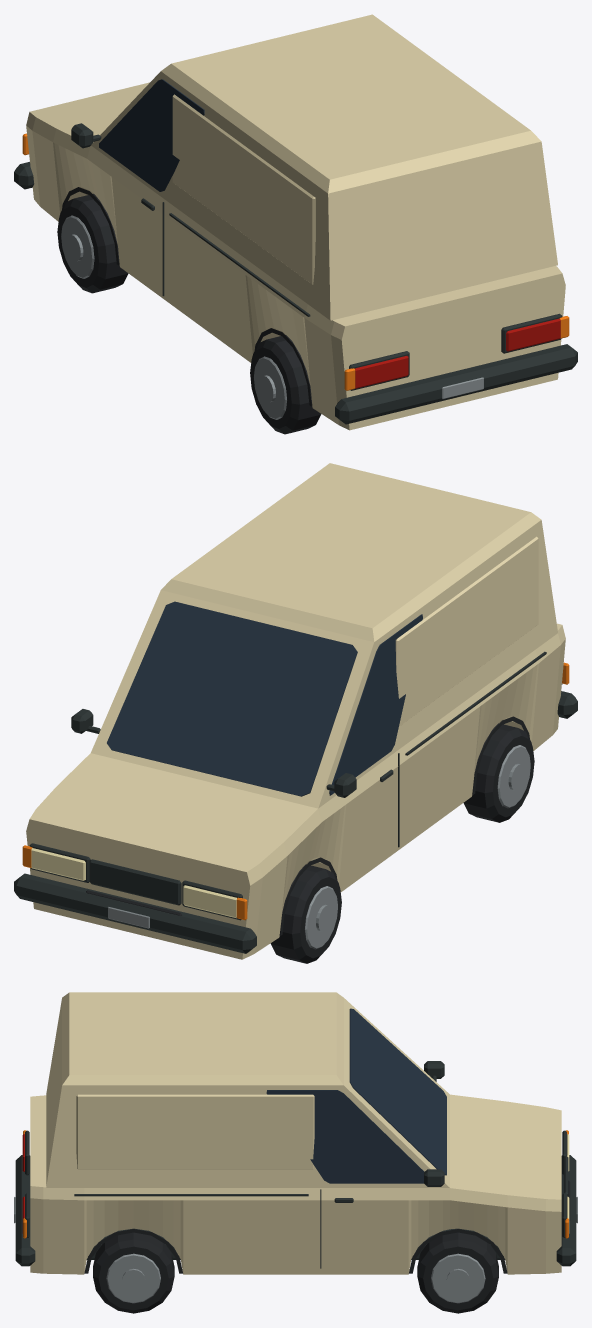
File: 17_CompactCargoVan.fbx
3 views of the same model, one above another, from view 1: azimuth 30°, elevation 25°; view 2: azimuth 150°, elevation 25°; view 3: azimuth 270°, elevation 25° (orthographic). The views are drawn at different scales.
Parts seen in each view (by area): view 1: Raked cabin with chamfered roof.016, Continuous body with open wheel arches.017, Recessed solid cargo panel.002, Moulded bumper.033, Side glass -1 pane 1.012, WheelFL_ShapedSidewall.016, WheelRL_ShapedSidewall.016, WheelFL_Rim.016, WheelRL_Rim.016, Tail lamp.033, Tail lamp.032, Cargo door track.002 (+1 smaller); view 2: Continuous body with open wheel arches.017, Raked cabin with chamfered roof.016, Framed opaque windshield.016, Recessed solid cargo panel.002, Moulded bumper.032, Side glass -1 pane 1.012, WheelFL_ShapedSidewall.016, WheelRL_ShapedSidewall.016, Inset radiator grille.016, WheelRL_Rim.016, WheelFL_Rim.016, Headlamp.029 (+2 smaller); view 3: Continuous body with open wheel arches.017, Raked cabin with chamfered roof.016, Recessed solid cargo panel.003, Framed opaque windshield.016, Side glass 1 pane 1.012, WheelFR_ShapedSidewall.016, WheelRR_ShapedSidewall.016, WheelFR_Rim.016, WheelRR_Rim.016, Moulded bumper.033, Moulded bumper.032, Cargo door track.003 (+2 smaller).
Boxes of the visible parts, left/top/right/bottom form: Raked cabin with chamfered roof.016: left=91, top=14, right=557, bottom=320; Continuous body with open wheel arches.017: left=26, top=82, right=565, bottom=430; Recessed solid cargo panel.002: left=172, top=94, right=315, bottom=284; Moulded bumper.033: left=335, top=344, right=577, bottom=424; Side glass -1 pane 1.012: left=99, top=79, right=204, bottom=191; WheelFL_ShapedSidewall.016: left=57, top=193, right=128, bottom=293; WheelRL_ShapedSidewall.016: left=250, top=335, right=321, bottom=434; WheelFL_Rim.016: left=61, top=215, right=94, bottom=278; WheelRL_Rim.016: left=254, top=356, right=286, bottom=419; Tail lamp.033: left=506, top=318, right=560, bottom=351; Tail lamp.032: left=355, top=356, right=408, bottom=388; Cargo door track.002: left=169, top=213, right=310, bottom=316; Continuous body with open wheel arches.017: left=26, top=623, right=565, bottom=959; Raked cabin with chamfered roof.016: left=91, top=463, right=557, bottom=808; Framed opaque windshield.016: left=107, top=601, right=357, bottom=796; Recessed solid cargo panel.002: left=395, top=536, right=538, bottom=726; Moulded bumper.032: left=14, top=873, right=256, bottom=953; Side glass -1 pane 1.012: left=329, top=614, right=422, bottom=795; WheelFL_ShapedSidewall.016: left=270, top=864, right=341, bottom=963; WheelRL_ShapedSidewall.016: left=463, top=723, right=534, bottom=822; Inset radiator grille.016: left=89, top=859, right=181, bottom=905; WheelRL_Rim.016: left=497, top=745, right=530, bottom=808; WheelFL_Rim.016: left=305, top=886, right=337, bottom=949; Headlamp.029: left=31, top=848, right=85, bottom=880; Continuous body with open wheel arches.017: left=30, top=1094, right=561, bottom=1274; Raked cabin with chamfered roof.016: left=46, top=992, right=449, bottom=1187; Recessed solid cargo panel.003: left=76, top=1094, right=314, bottom=1169; Framed opaque windshield.016: left=349, top=1008, right=446, bottom=1175; Side glass 1 pane 1.012: left=266, top=1090, right=424, bottom=1183; WheelFR_ShapedSidewall.016: left=417, top=1232, right=498, bottom=1313; WheelRR_ShapedSidewall.016: left=93, top=1232, right=174, bottom=1313; WheelFR_Rim.016: left=431, top=1253, right=485, bottom=1303; WheelRR_Rim.016: left=106, top=1253, right=160, bottom=1303; Moulded bumper.033: left=15, top=1155, right=35, bottom=1266; Moulded bumper.032: left=556, top=1155, right=576, bottom=1266; Cargo door track.003: left=74, top=1194, right=308, bottom=1196.
Size of the model in its own units: 204 by 194 by 428.
